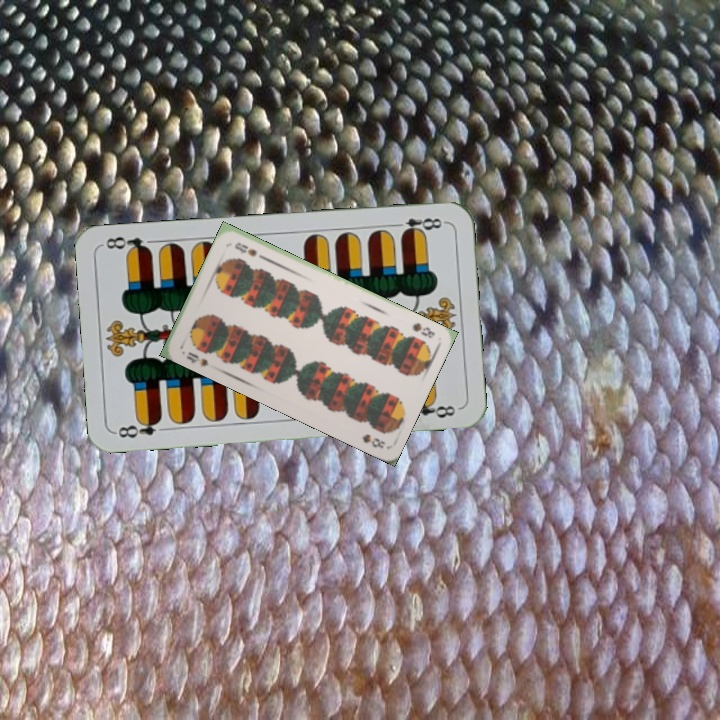E8: (112, 414, 165, 441), (389, 214, 448, 238)
S8: (408, 318, 437, 341), (182, 348, 211, 369)
